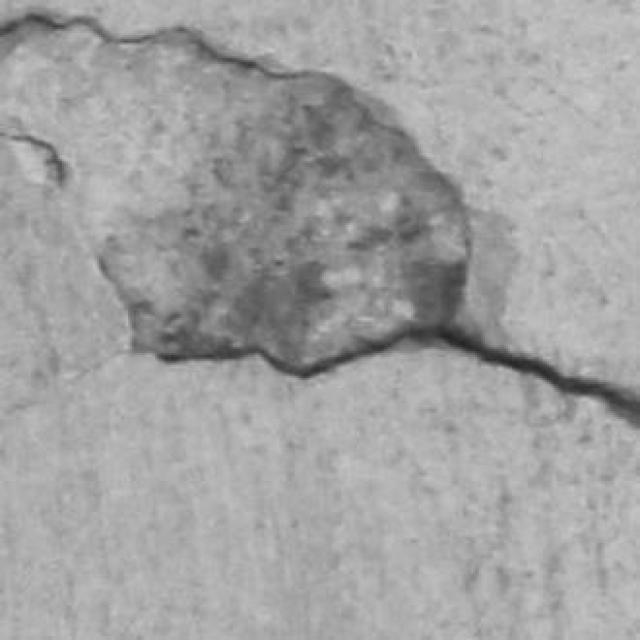crack: (161, 326, 639, 428), (218, 326, 639, 428), (0, 10, 306, 79), (437, 328, 639, 428), (0, 132, 69, 188)
